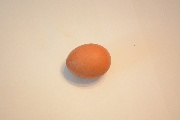egg: (65, 42, 112, 78)
